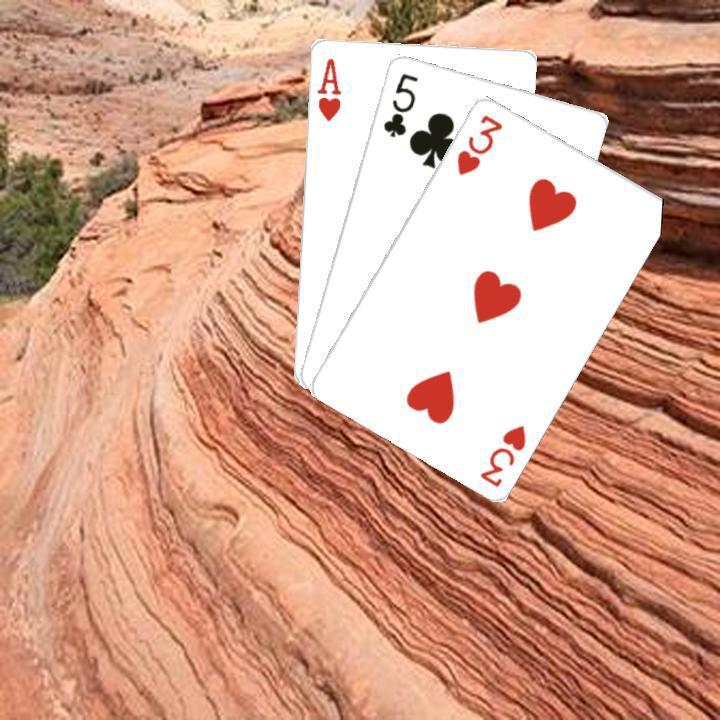3: (475, 420, 528, 489), (452, 109, 505, 177)
5: (378, 68, 420, 139)
A: (312, 53, 343, 123)
